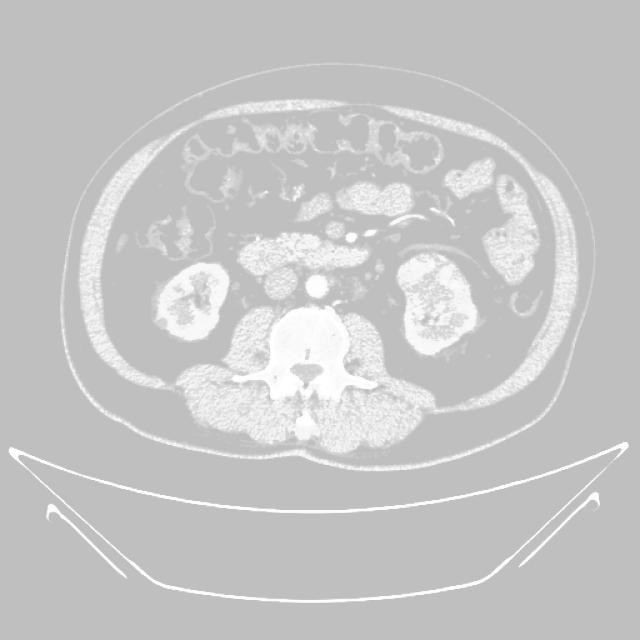TUMOR: (245, 193, 589, 390)
